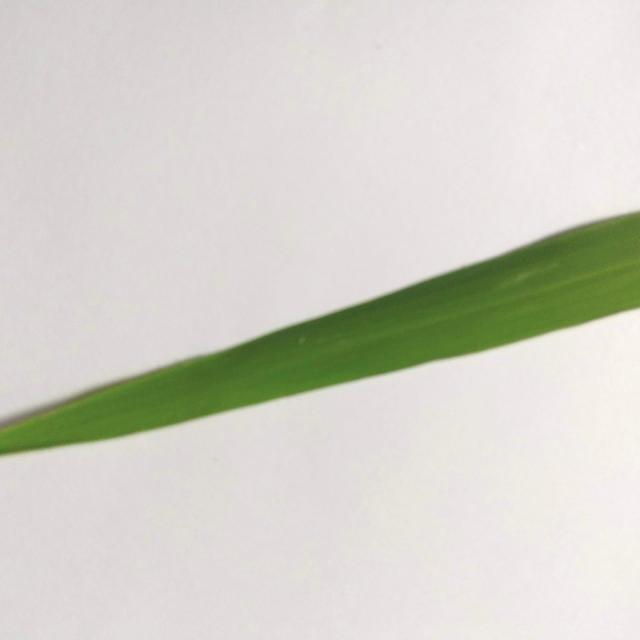healthy: (0, 209, 640, 515)
